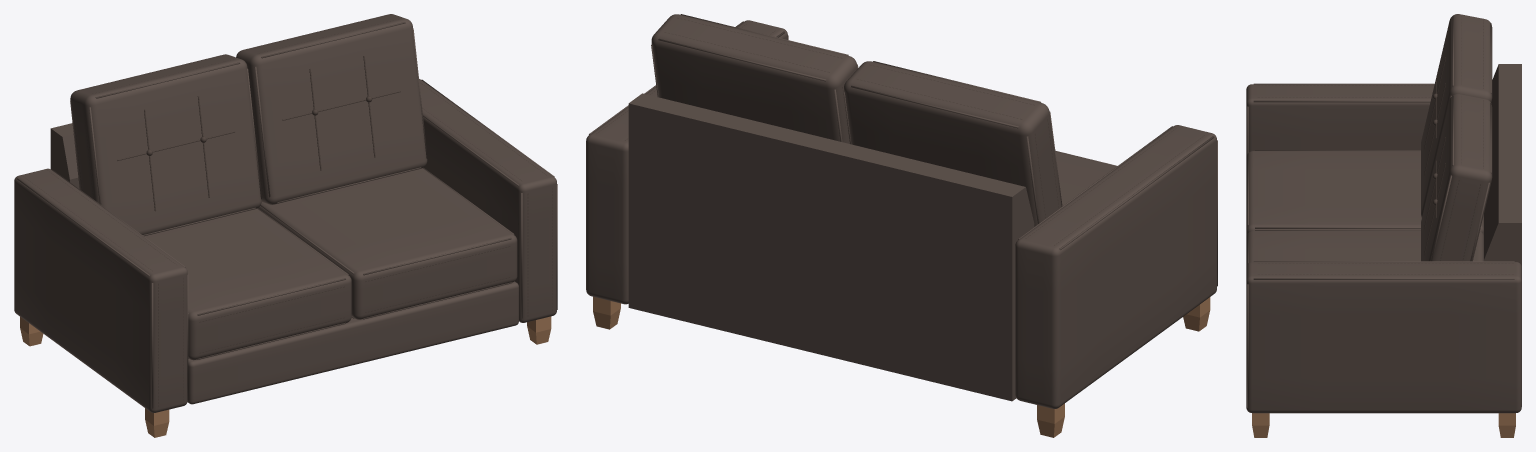
The model's file is benza_160x95.glb.
3 views of the same model, side by side, from view 1: azimuth 30°, elevation 25°; view 2: azimuth 150°, elevation 25°; view 3: azimuth 270°, elevation 25° (orthographic). The views are drawn at different scales.
Visible parts, largest first — view 1: p1, p2, p0; view 2: p1, p0, p2; view 3: p1, p2, p0.
Part boxes in pixels (x1,y1,x2,y2): p1: [14, 14, 557, 412]; p2: [23, 15, 552, 406]; p0: [20, 316, 551, 437]; p1: [586, 14, 1217, 408]; p0: [593, 296, 1210, 437]; p2: [596, 17, 1204, 245]; p1: [1246, 14, 1521, 413]; p2: [1258, 16, 1513, 274]; p0: [1252, 413, 1515, 437].
Size of the model in its own units: 1.6 by 0.9642 by 0.9506.
3 materials, 2 textured.
